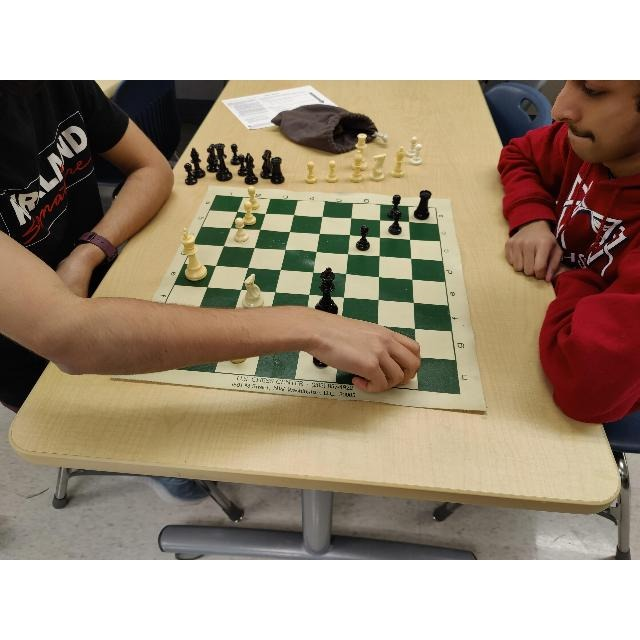black-king: (316, 267, 338, 314)
black-pawn: (356, 225, 370, 250), (388, 210, 401, 234), (388, 194, 401, 217)
black-rook: (414, 190, 432, 220)
white-king: (180, 228, 207, 282)
white-knight: (243, 273, 265, 309)
white-pawn: (235, 217, 249, 242), (244, 200, 256, 225), (248, 186, 260, 210)
